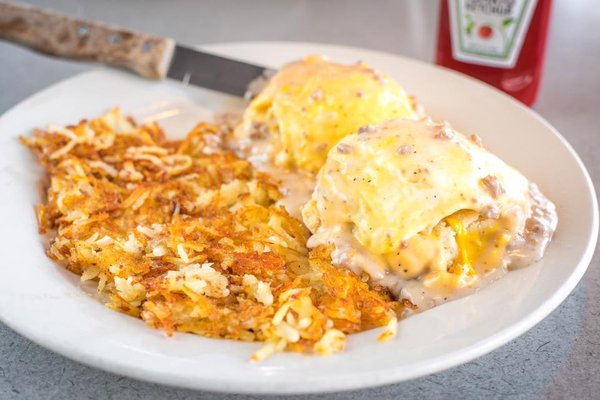sandwich: (0, 1, 274, 100)
